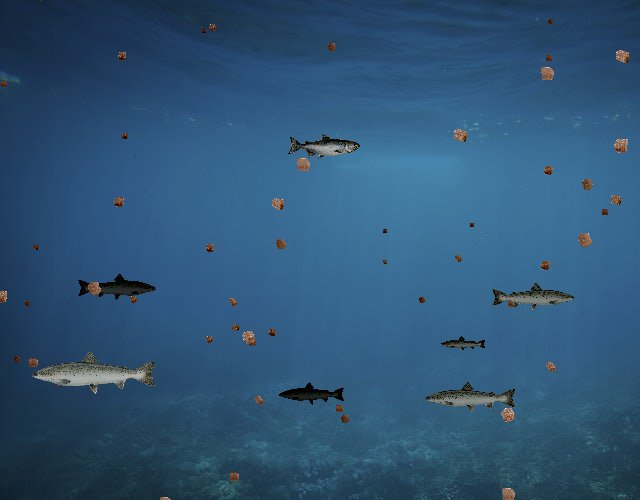Fish: (30, 349, 159, 395), (425, 381, 519, 415), (490, 281, 576, 312), (76, 273, 157, 302), (287, 134, 360, 160), (278, 381, 346, 406), (440, 336, 487, 353)
Pellet: (606, 130, 636, 160), (234, 323, 262, 351), (264, 190, 291, 217), (544, 15, 557, 28), (29, 242, 41, 254)
